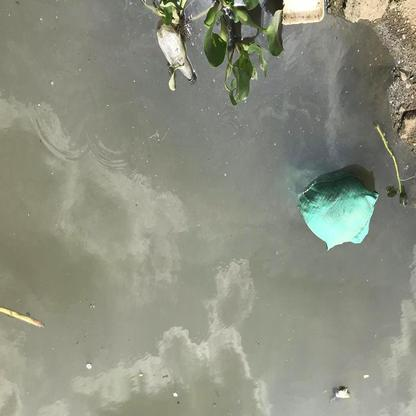plastic bag: (295, 172, 379, 251)
plastic bottle: (154, 23, 198, 83)
